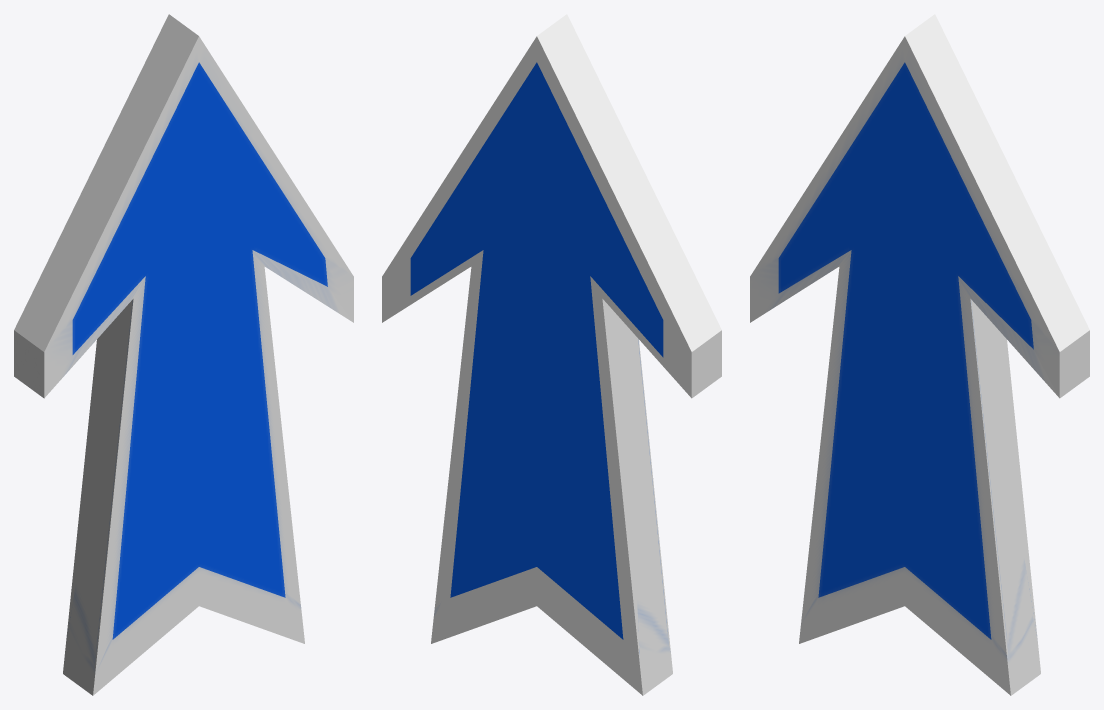
File: Seta.fbx
The picture shows the model from 3 angles, left to right: view 1: azimuth 30°, elevation 25°; view 2: azimuth 150°, elevation 25°; view 3: azimuth 330°, elevation 25°; orthographic projection.
Parts seen in each view (by area): view 1: Cube; view 2: Cube; view 3: Cube.
Part boxes in pixels (box(x1,y1,x2,y2)): Cube: box(14, 14, 353, 695); Cube: box(382, 14, 721, 695); Cube: box(750, 14, 1089, 695).
Size of the model in its own units: 355 by 694 by 59.84.
